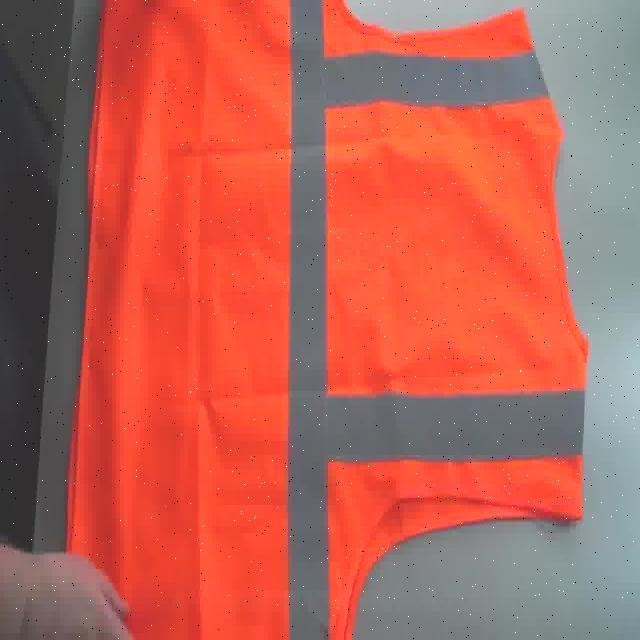Vest: (64, 0, 592, 640)
